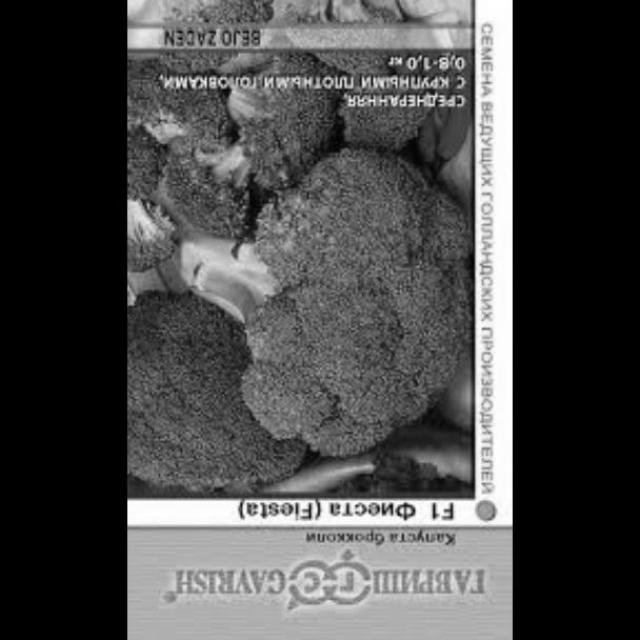bong cai xanh: (184, 148, 488, 456), (129, 32, 347, 221), (129, 326, 296, 501), (335, 55, 442, 162)
